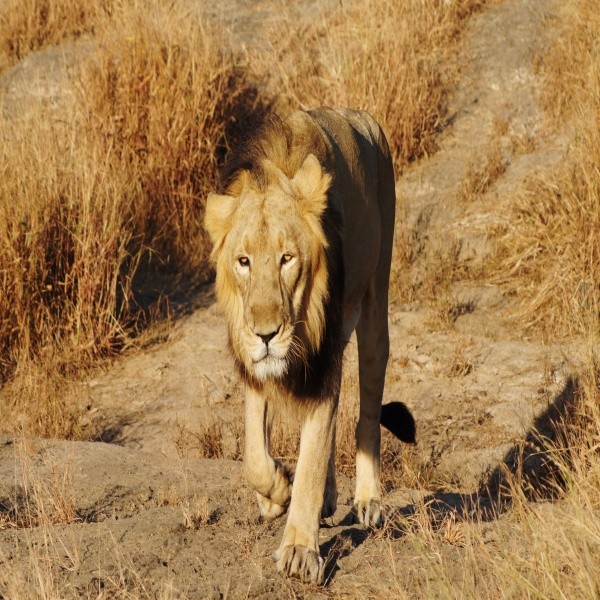Lion: (201, 103, 423, 585)
